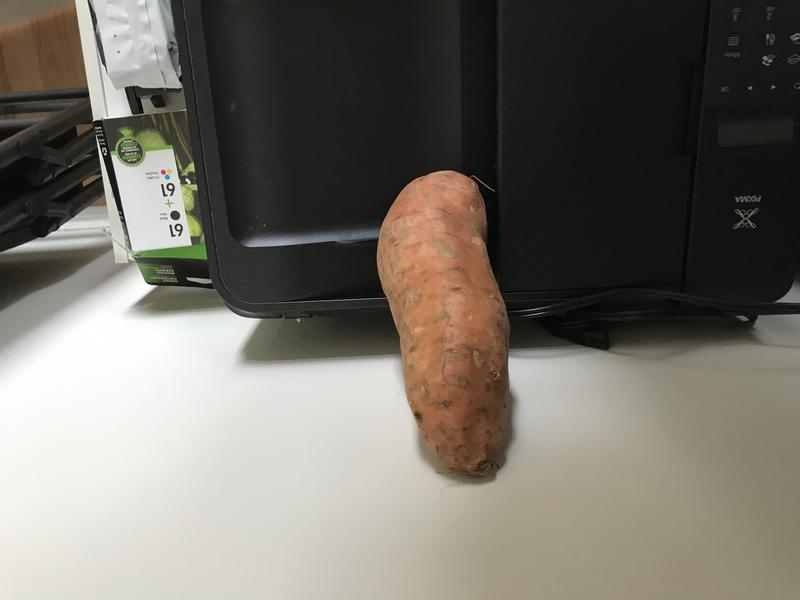sweet_potato: (367, 162, 542, 496)
